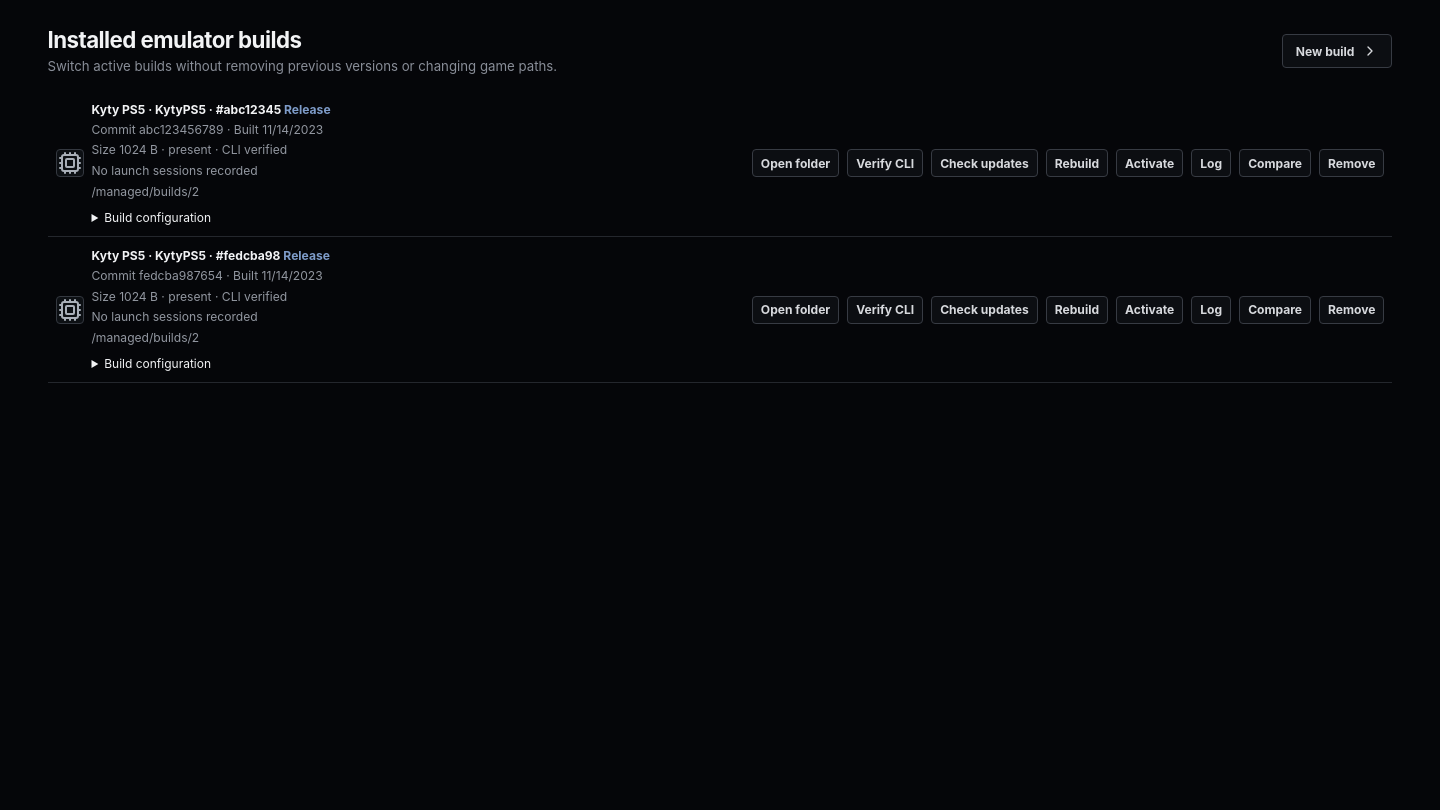
Scenario: EmulatorManagerPage › compares recorded configuration and validation for two builds
Click the 1st button "Compare".
click(1275, 164)  # box [1239,150,1311,178]
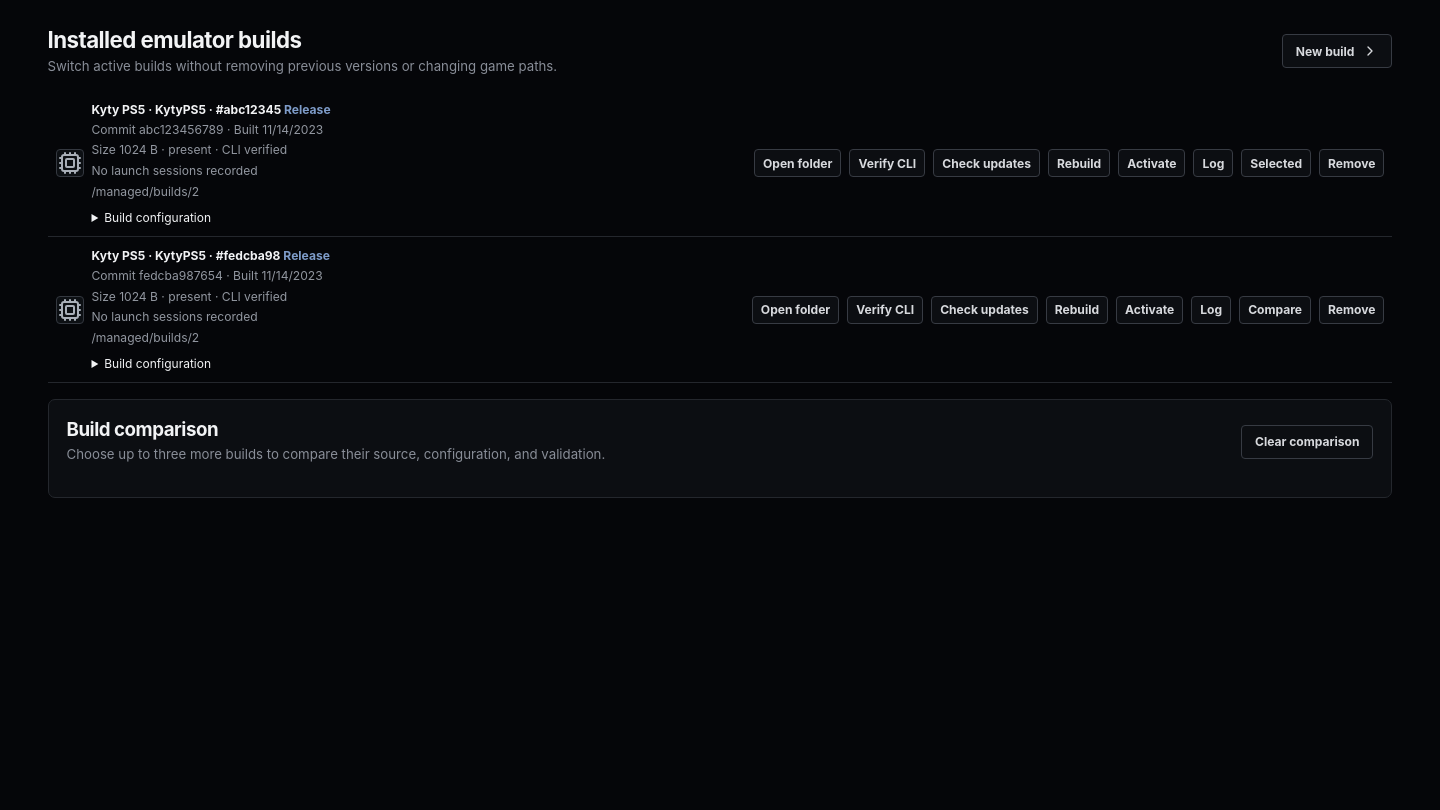
Click the button "Compare".
click(1275, 310)  # box [1239,296,1311,324]
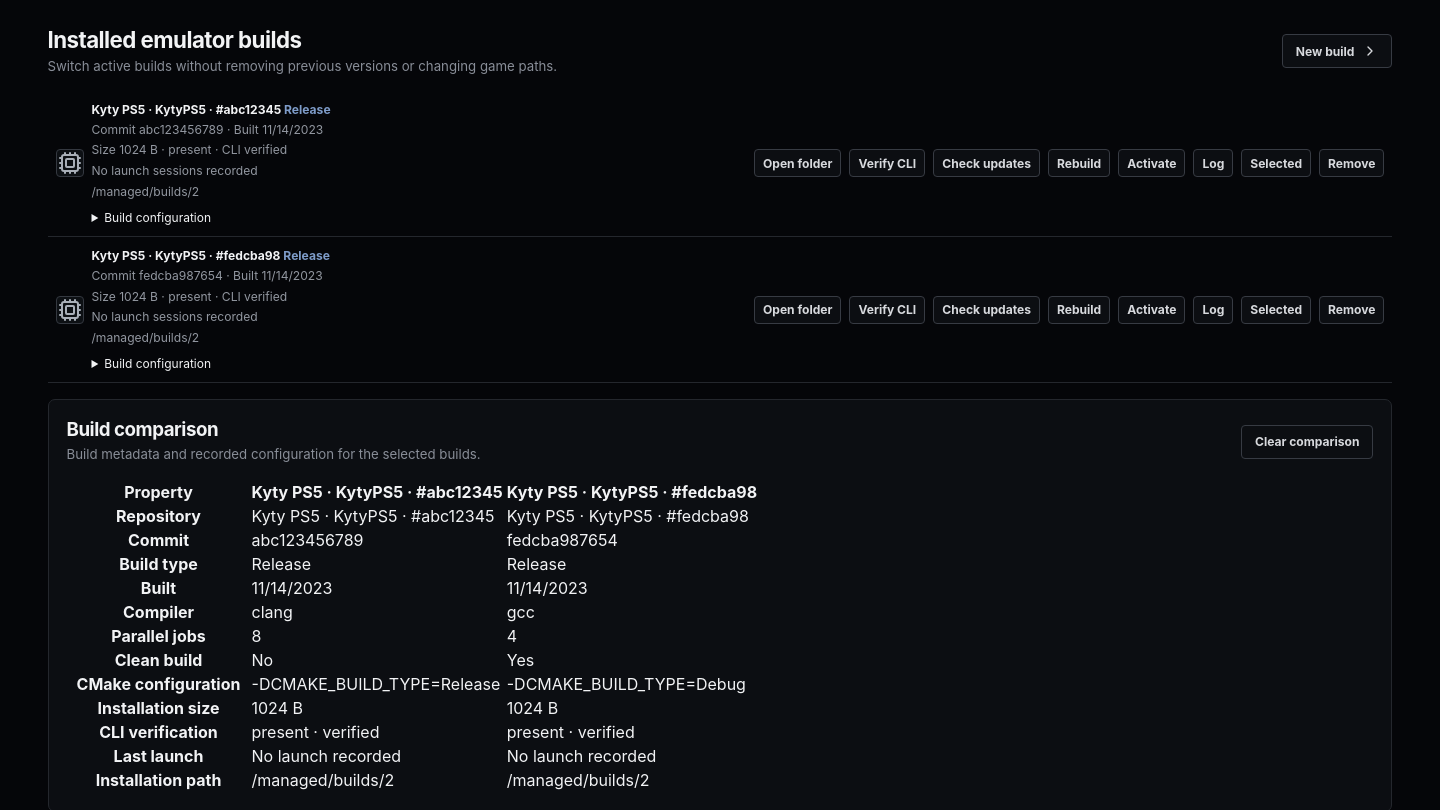
expect the heading "Build comparison" is shown: met, box [66,418,218,441]
expect the text "clang" is shown: met, box [250,601,504,623]
expect the text "gcc" is shown: met, box [506,601,758,623]
